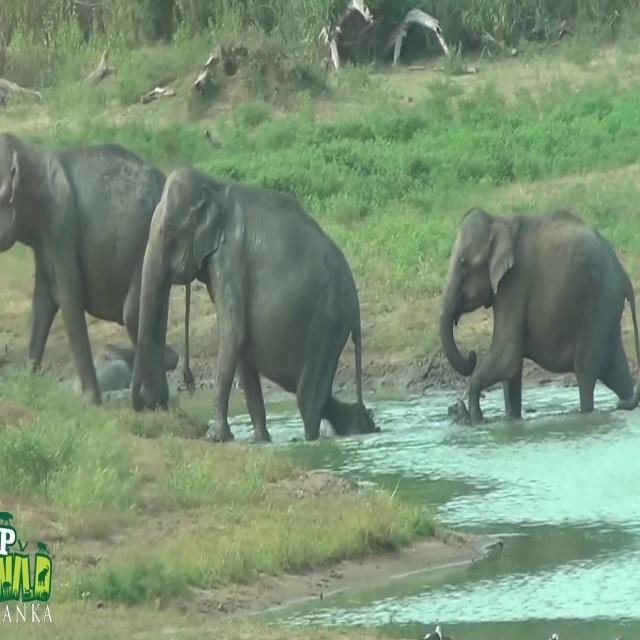Elephant: (130, 164, 382, 445), (0, 130, 179, 408), (438, 205, 640, 424)
